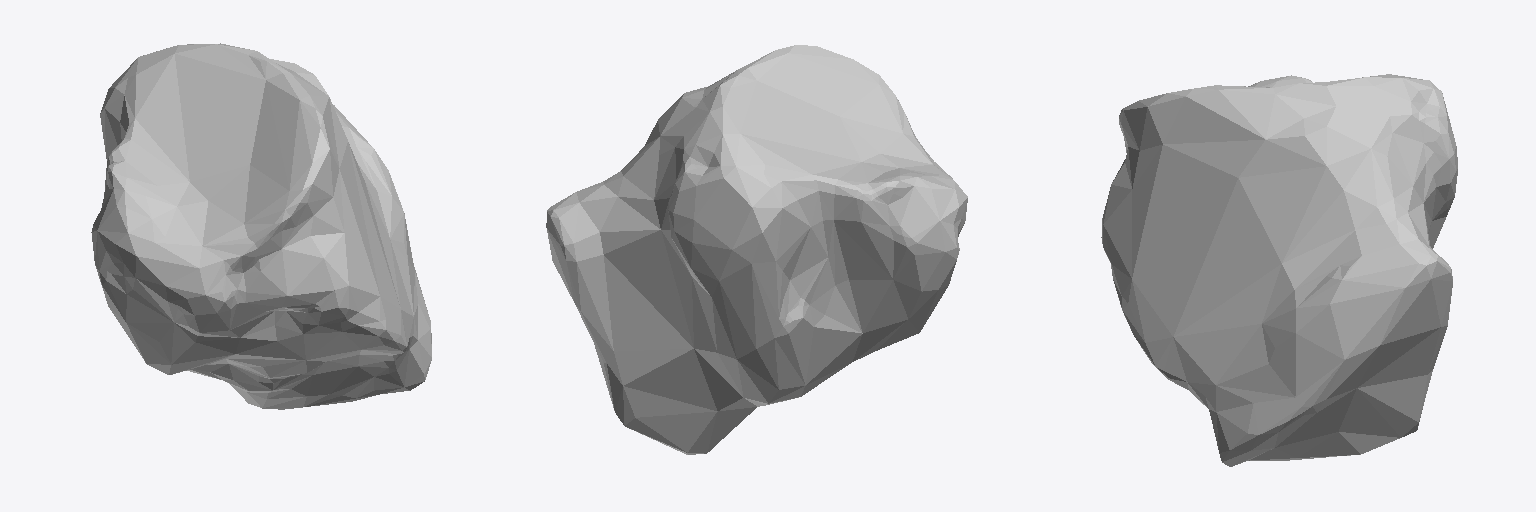
The model's file is left cuboid bone.obj.
The picture shows the model from 3 angles: view 1: azimuth 30°, elevation 25°; view 2: azimuth 150°, elevation 25°; view 3: azimuth 270°, elevation 25°; orthographic projection.
Parts seen in each view (by area): view 1: grp1; view 2: grp1; view 3: grp1.
Part boxes in pixels (x1,y1,x2,y2): grp1: (91,43,431,409); grp1: (546,45,967,454); grp1: (1101,74,1457,466).
Bounding box in the file's own units: 33.17 × 33.52 × 29.67.